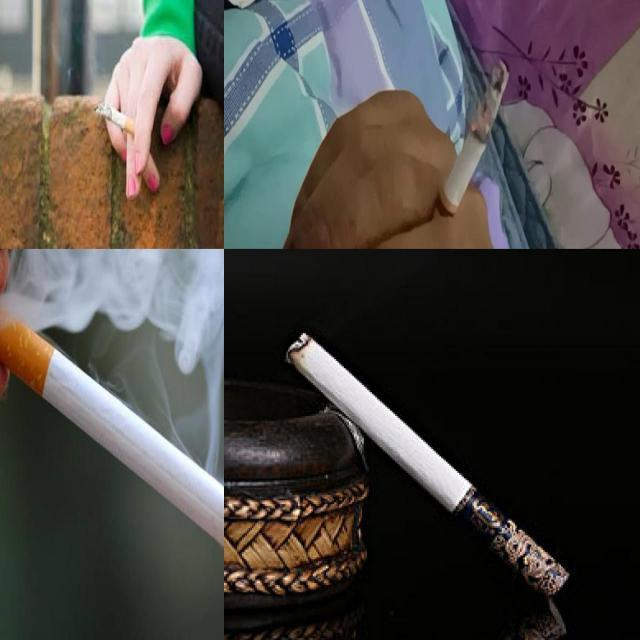cigarette: (284, 330, 570, 600), (0, 289, 224, 555), (424, 58, 512, 248), (94, 103, 138, 137)
